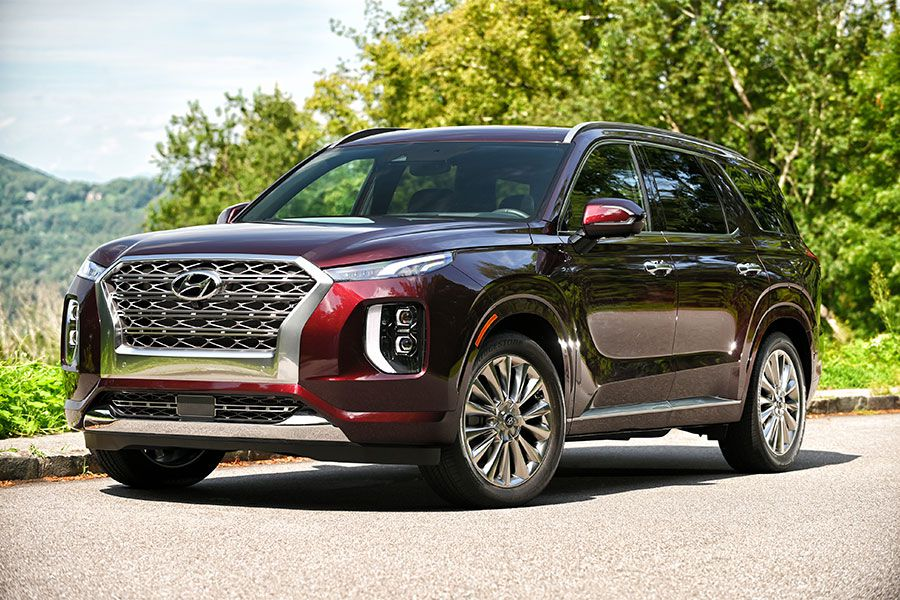car: (60, 120, 822, 509)
